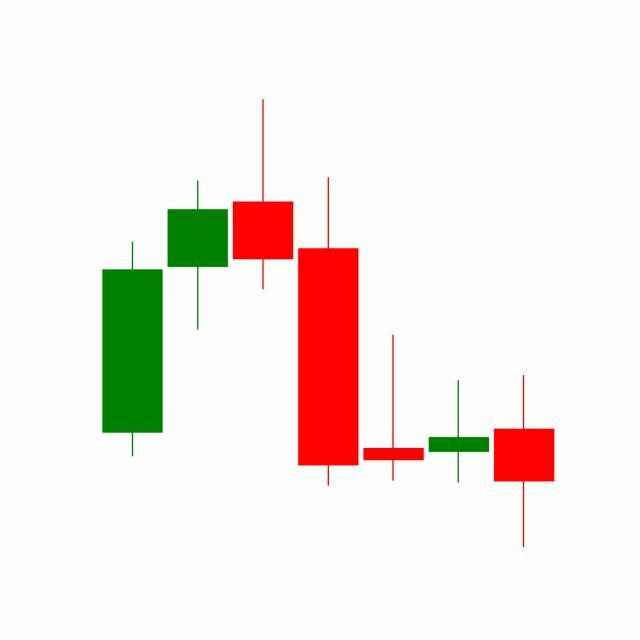Hikkake Pattern: (165, 100, 492, 491)
